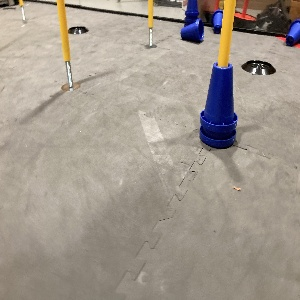Blue_1: (277, 11, 299, 53), (176, 20, 206, 45), (211, 5, 224, 38)
Blue_2: (197, 58, 239, 150)
